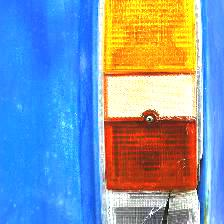tail_lamp: (126, 151, 200, 223)
